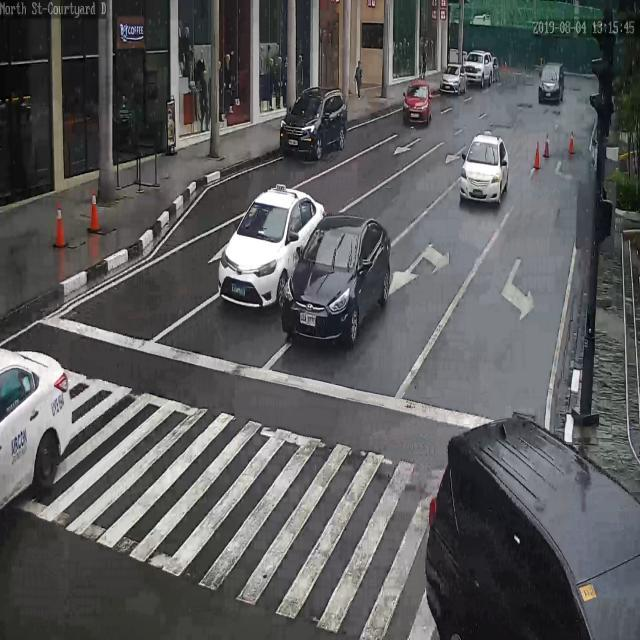car: (427, 419, 640, 640), (283, 213, 390, 346), (218, 184, 326, 308), (0, 344, 72, 515), (279, 86, 349, 162), (459, 132, 511, 206), (403, 80, 435, 122), (463, 48, 495, 87), (440, 64, 472, 95)
van: (537, 63, 565, 106)
